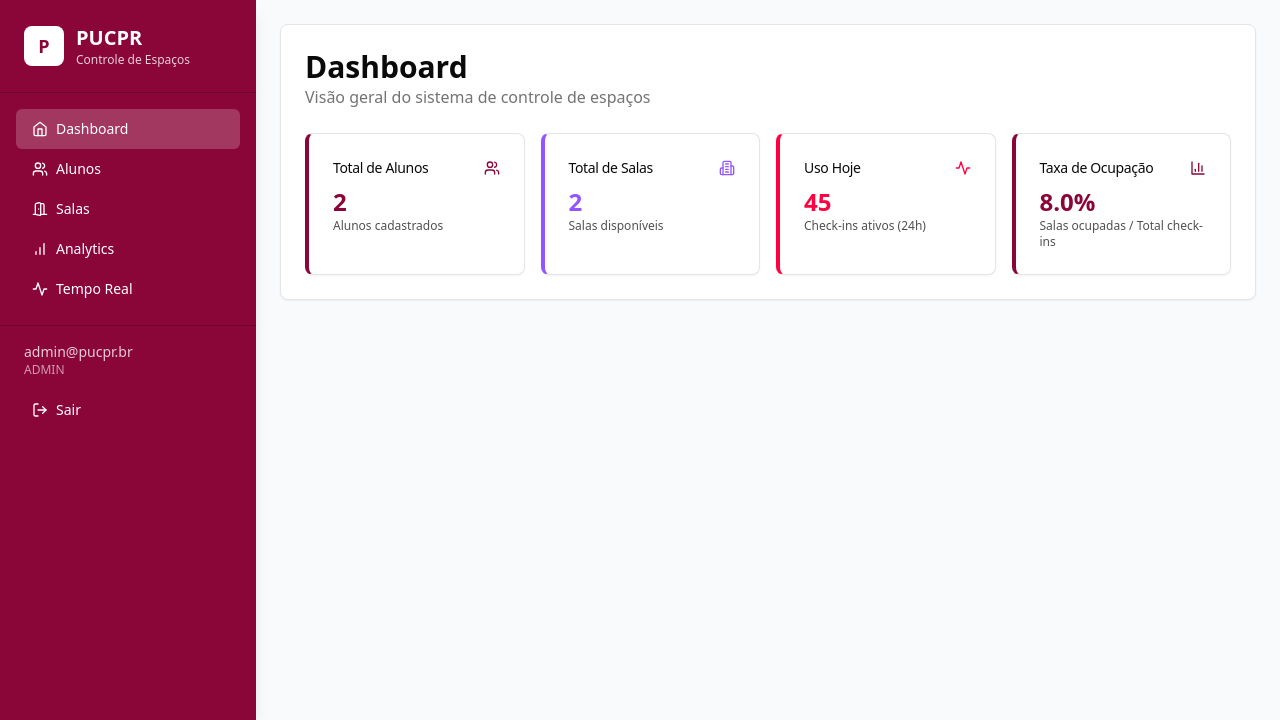
Dashboard › should navigate to Students page
Click the link "Alunos".
click(128, 171)  # box [16, 160, 240, 182]
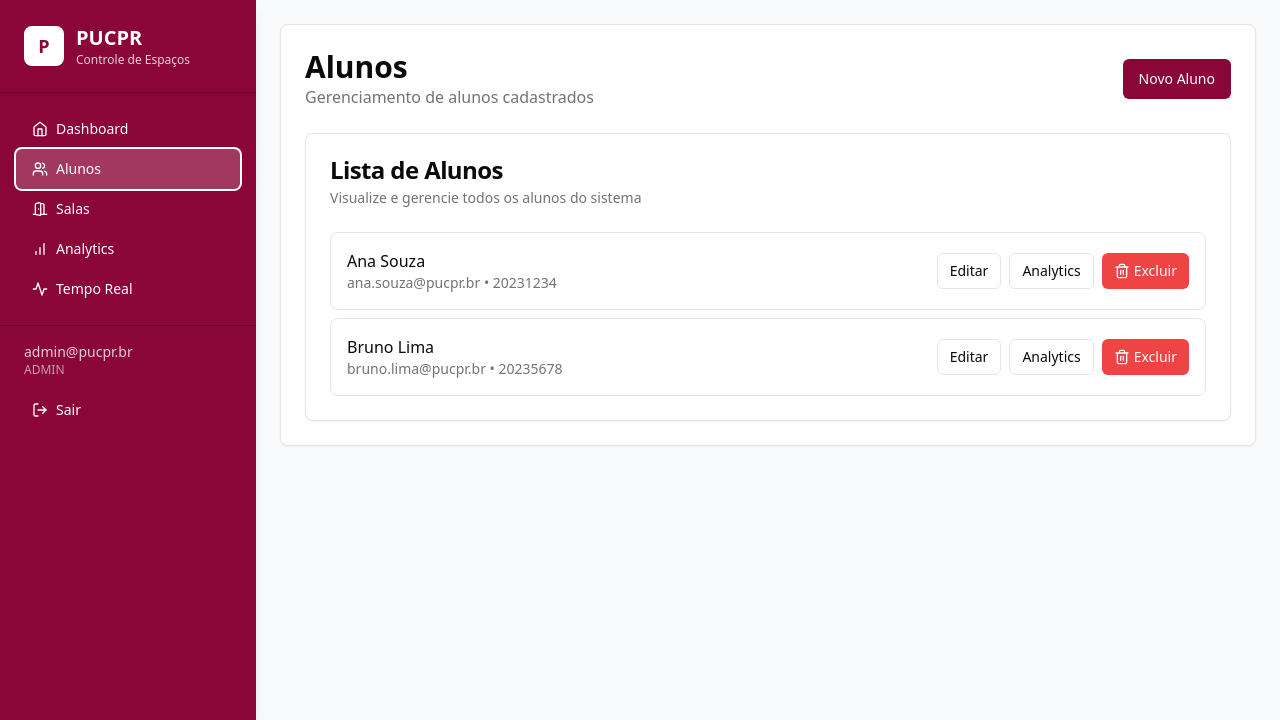
Result: the heading "Alunos" is shown at [305, 46, 408, 87]
